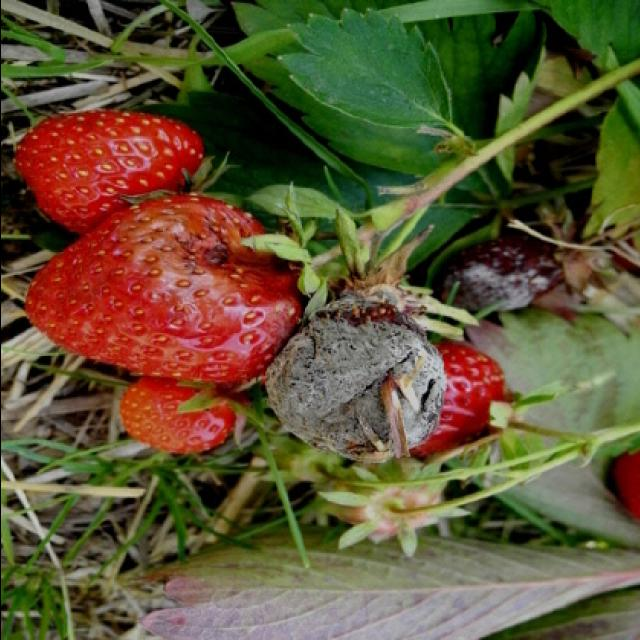Gray Mold: (263, 233, 446, 463), (444, 247, 561, 314)
